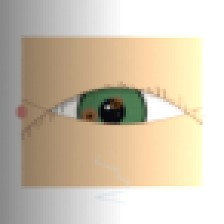foreign_body_visible: (74, 104, 105, 129)
